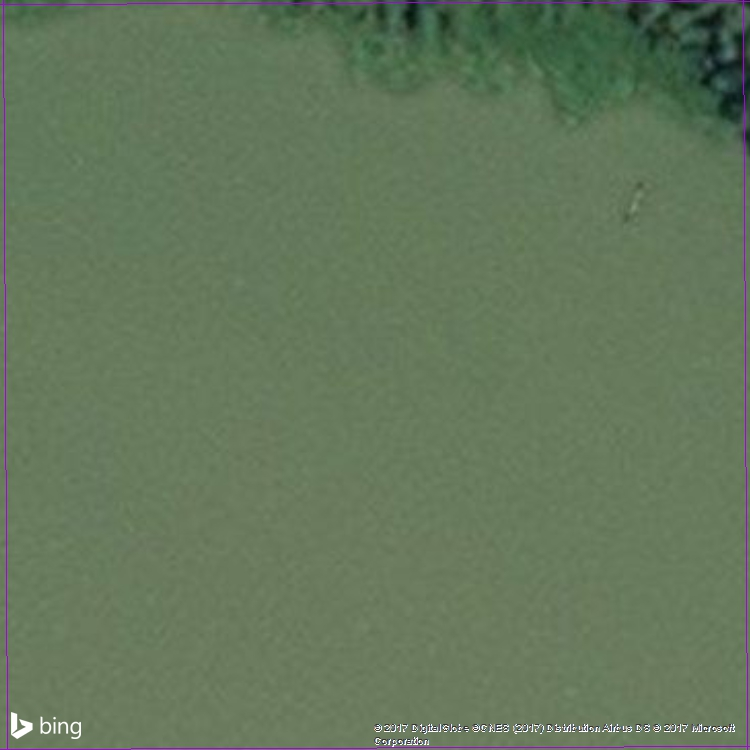boat: (611, 171, 657, 237)
